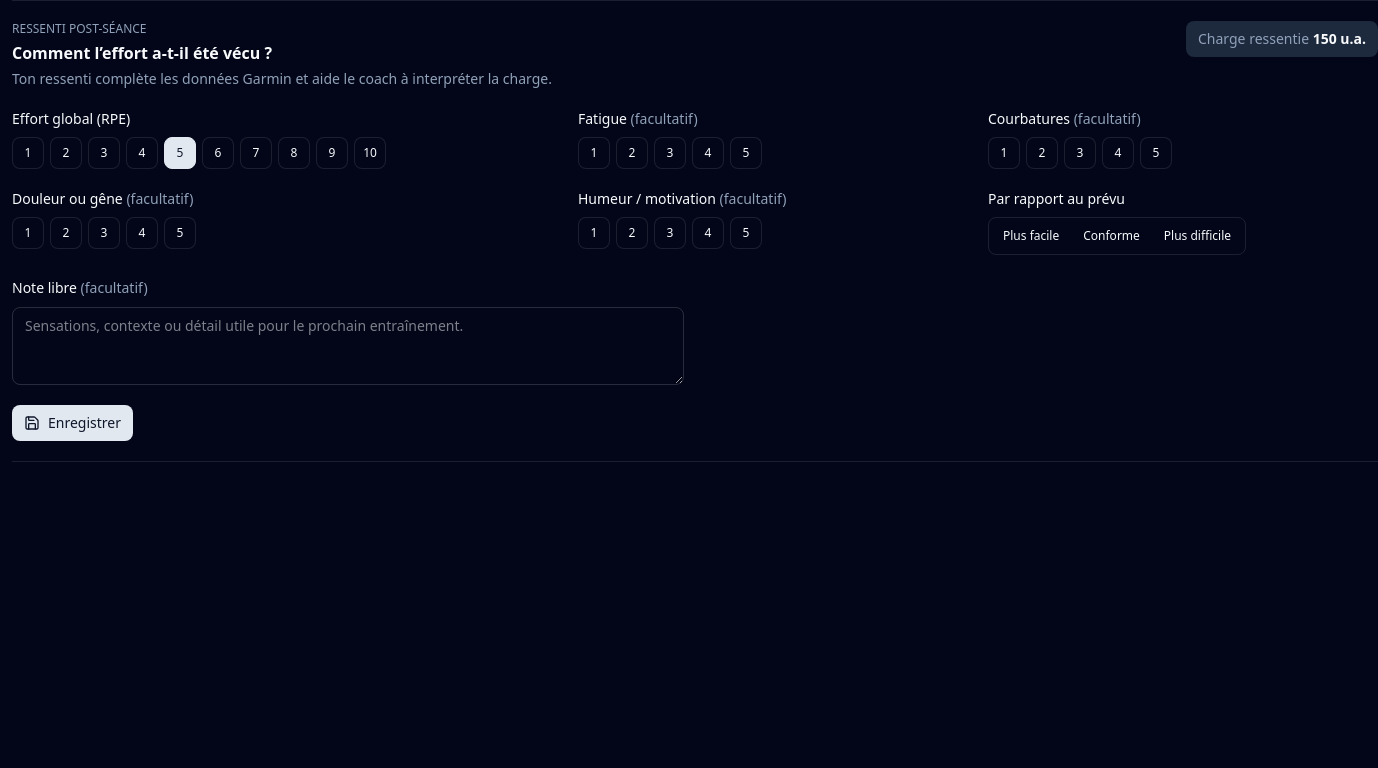
Test case: ActivityFeedbackForm › reveals the pain area when a discomfort is selected
Click the button "2" below "Douleur ou gêne": point(66, 233) [50,217,82,249]
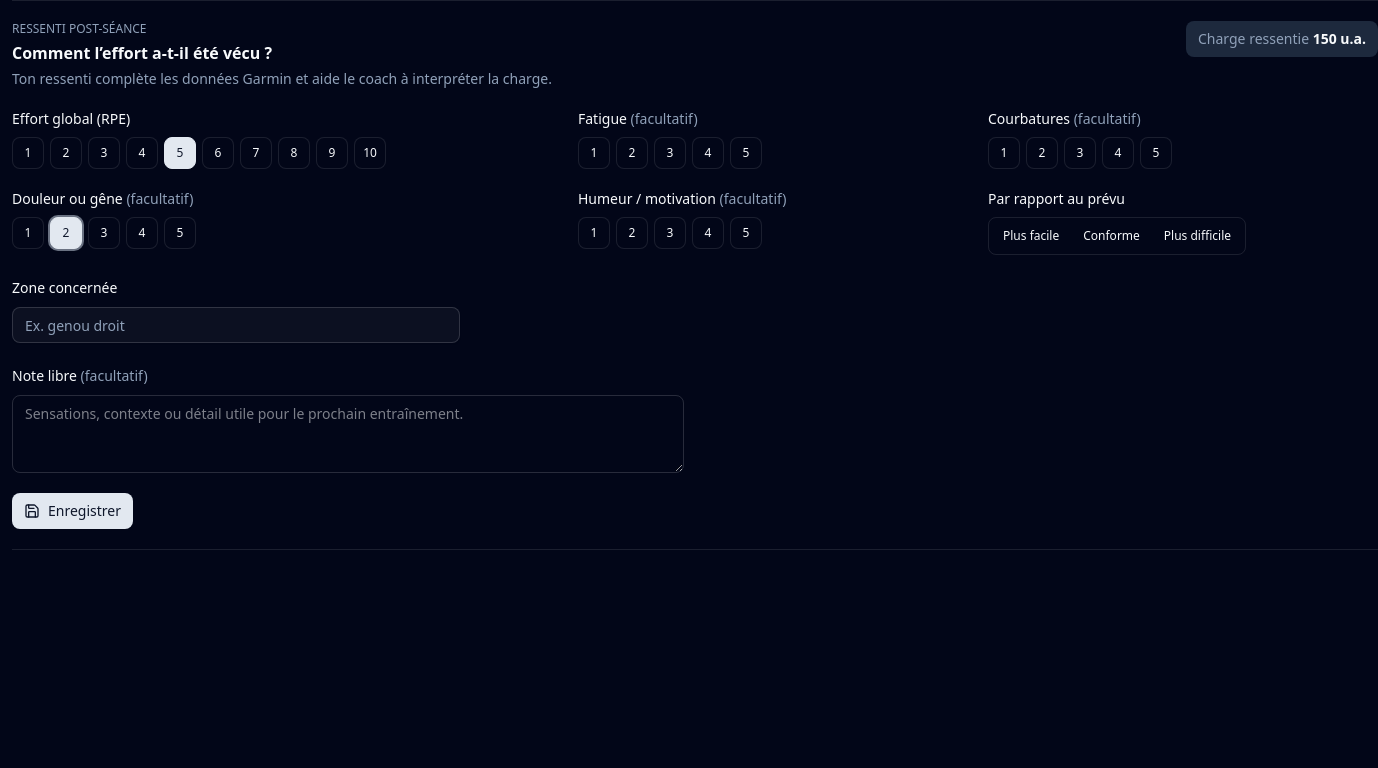
Expected: the field labelled "Zone concernée" is shown, [12,307,460,343]
